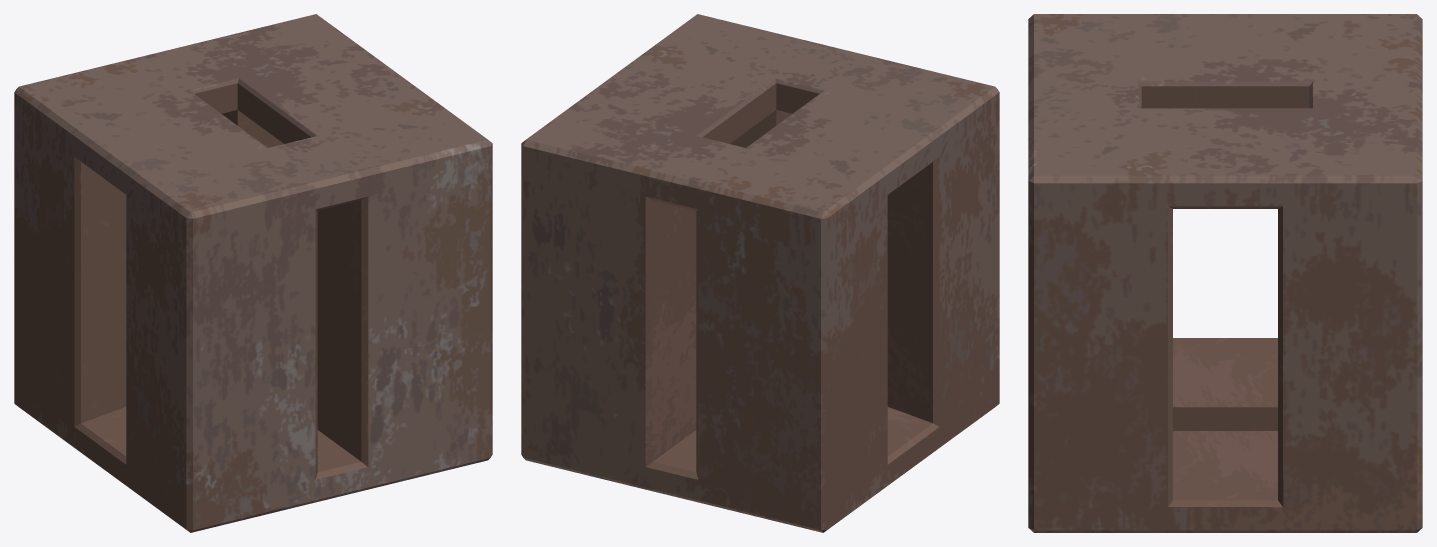
Rendered from rail_block_body.fbx.
3 views of the same model, side by side, from view 1: azimuth 30°, elevation 25°; view 2: azimuth 150°, elevation 25°; view 3: azimuth 270°, elevation 25° (orthographic). The views are drawn at different scales.
Parts seen in each view (by area): view 1: rail_block; view 2: rail_block; view 3: rail_block.
Part boxes in pixels (x1,y1,x2,y2): rail_block: (14, 14, 492, 532); rail_block: (521, 14, 999, 532); rail_block: (1028, 14, 1422, 532).
Size of the model in its own units: 1 by 1 by 1.
